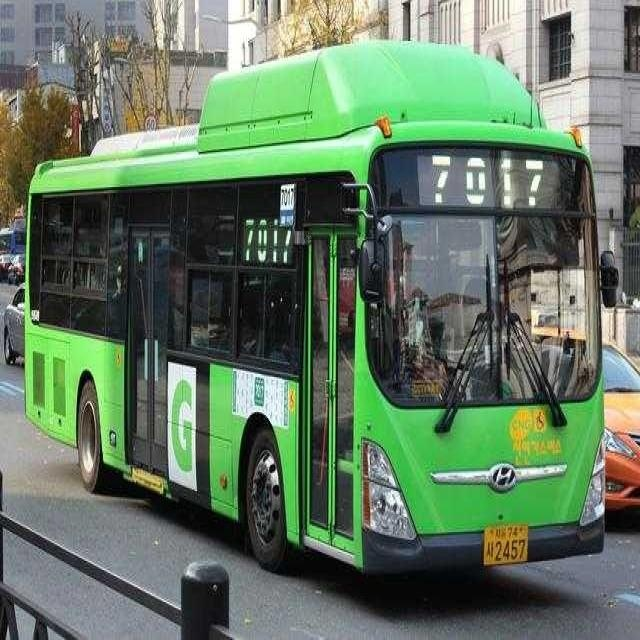Bus: (19, 29, 612, 617)
